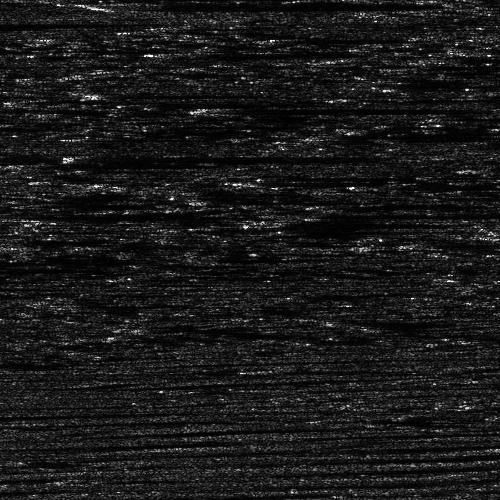rock: (248, 206, 321, 221), (248, 214, 321, 229), (303, 316, 386, 329), (65, 0, 180, 9), (139, 46, 202, 59), (297, 201, 380, 210), (188, 104, 241, 113), (253, 36, 316, 41), (58, 152, 99, 159), (74, 91, 127, 96), (14, 162, 67, 165), (465, 234, 500, 237)
shadow: (285, 206, 500, 221), (123, 0, 405, 9), (285, 214, 429, 229), (215, 104, 450, 113), (79, 152, 348, 159), (171, 46, 312, 59), (345, 316, 450, 329), (0, 211, 180, 218), (0, 17, 119, 26), (339, 201, 436, 210), (101, 91, 239, 96), (41, 162, 218, 165), (285, 36, 384, 41), (0, 155, 65, 158)
